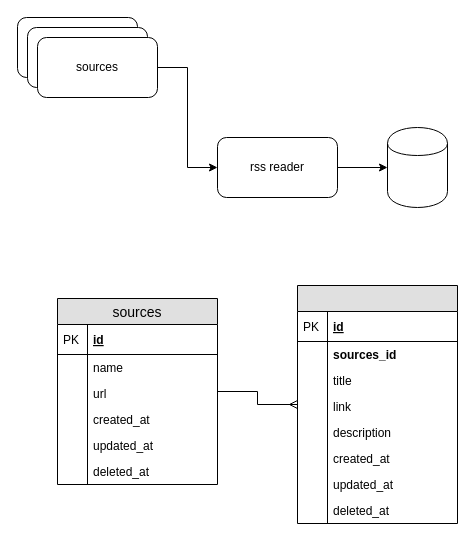
Image size: 475x544. Some labels were removed from this diagram. The shapes that lost their labels are listed below. From the top down, each one's box as (x1, y1, x2, y2) in pixels, then its label:
(386, 126, 448, 208): DB
(296, 284, 458, 524): rss_items
